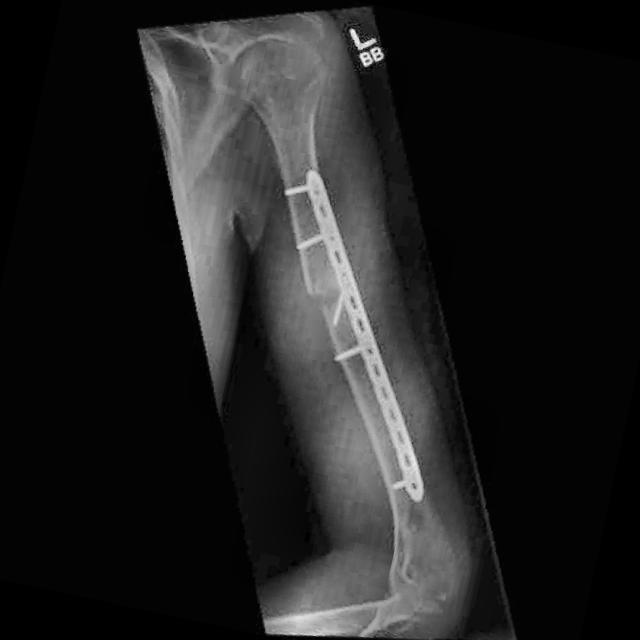humerus: (283, 261, 351, 350)
